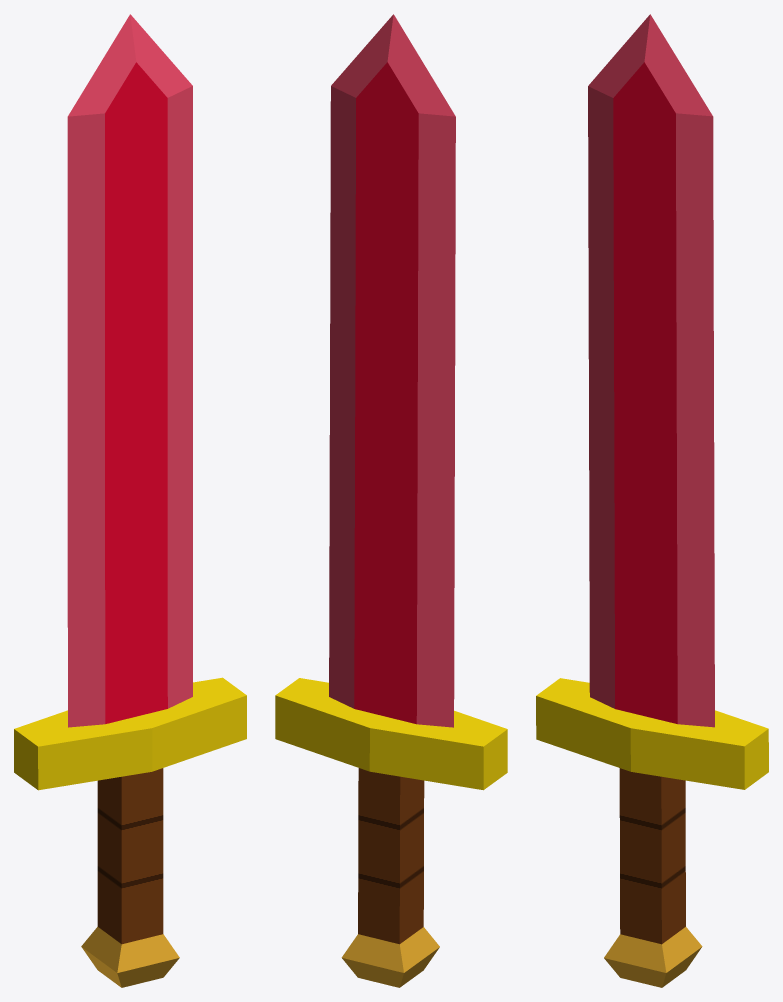
The model's file is FireSword_drop.FBX.
The picture shows the model from 3 angles, left to right: view 1: azimuth 30°, elevation 25°; view 2: azimuth 150°, elevation 25°; view 3: azimuth 330°, elevation 25°; orthographic projection.
Parts seen in each view (by area): view 1: Sword; view 2: Sword; view 3: Sword.
Part boxes in pixels (box(x1,y1,x2,y2)): Sword: box(14, 14, 246, 987); Sword: box(275, 14, 507, 987); Sword: box(536, 14, 768, 987).
Bounding box in the file's own units: 30.01 × 10.81 × 132.
Materials: 1 (1 with a texture image).
